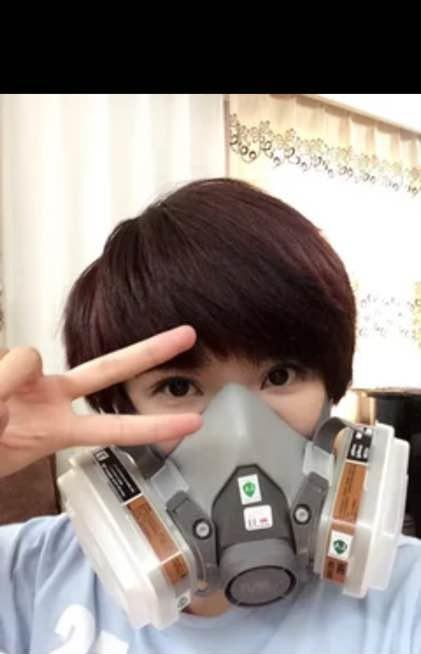OK: (136, 337, 323, 524)
